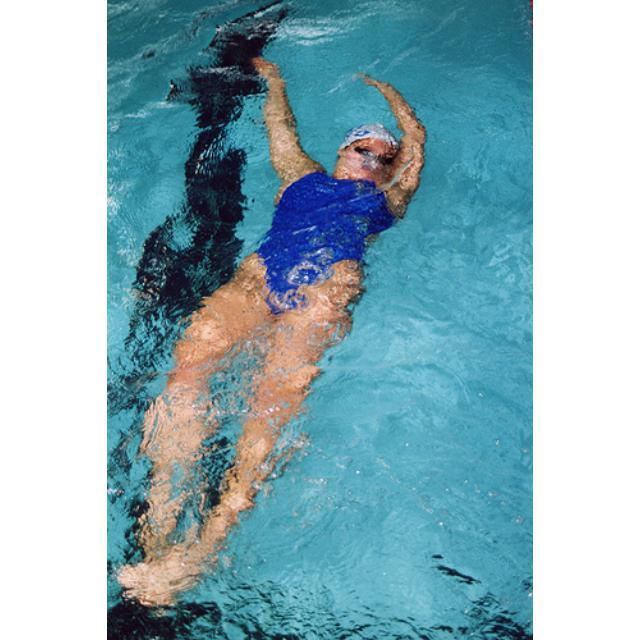human: (118, 60, 426, 605)
